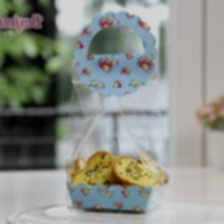snack: (54, 3, 180, 219)
